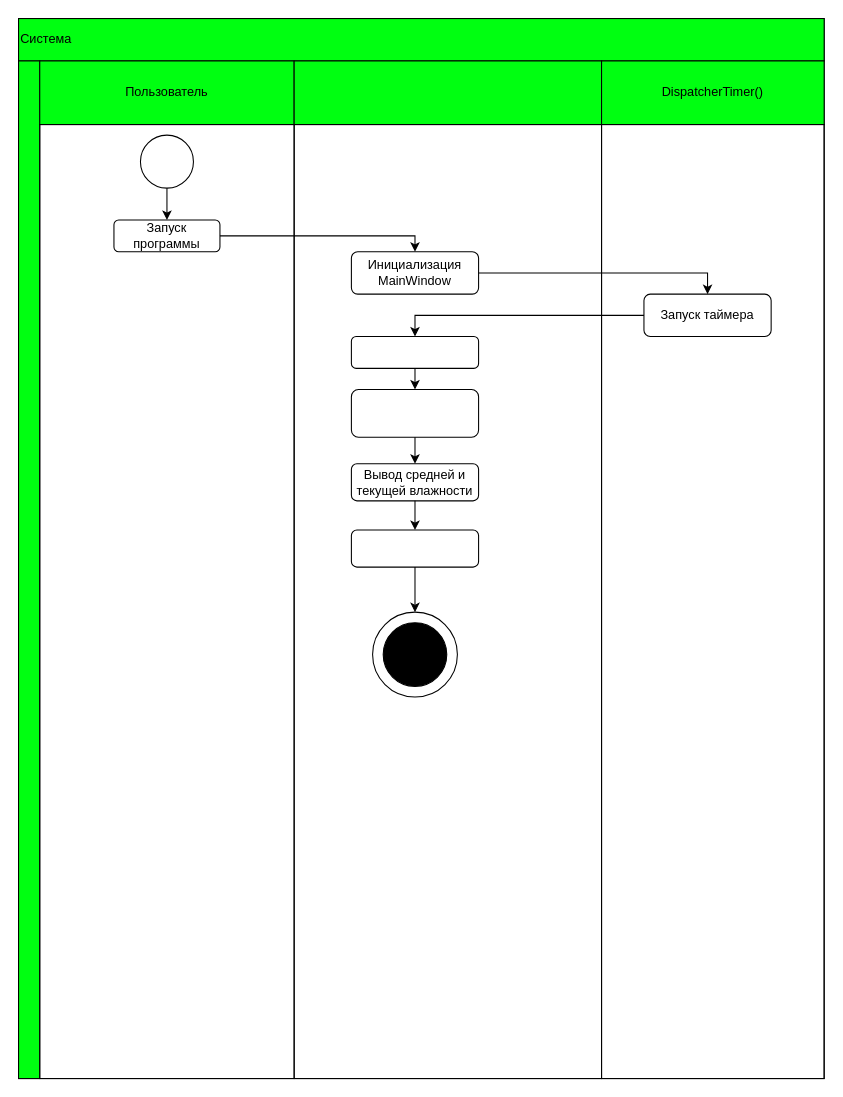
Some shapes in this 843 by 1097 pixel diagram are drawn without their labels. Here are the shapes that lost their labels. From the top down, the centre of each, then its label:
At [447,92]: "MainWindow".
At [414,351]: "Ожидание события Tick".
At [414,412]: "Генерация процентов влажности".
At [414,548]: "Вызов Draw()".
